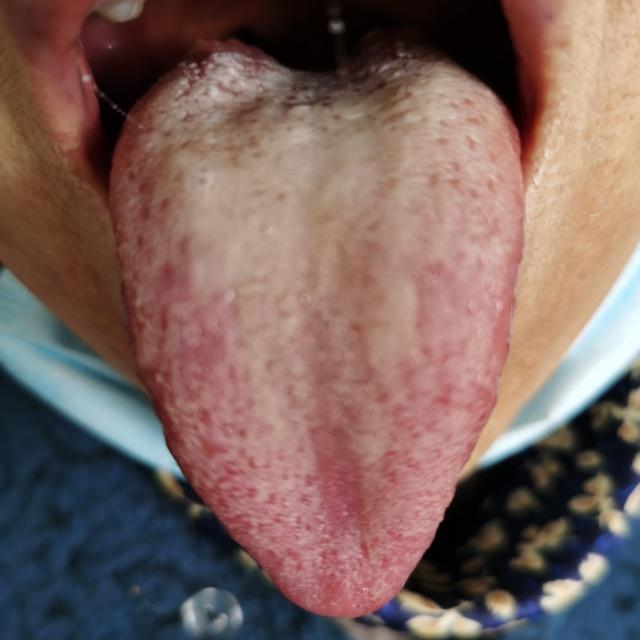baitaishe: (108, 39, 526, 618)
shenquao: (228, 40, 393, 90)
